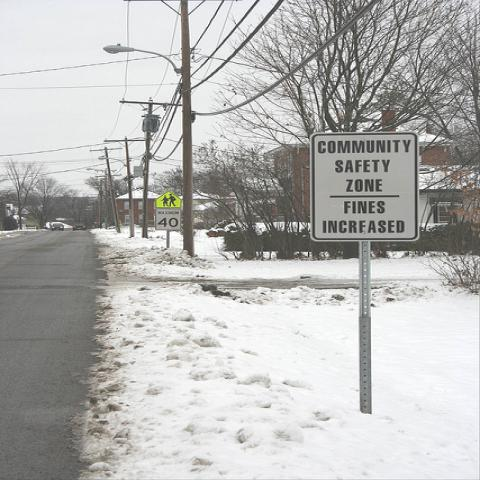car: (73, 223, 86, 231), (51, 224, 64, 230)
